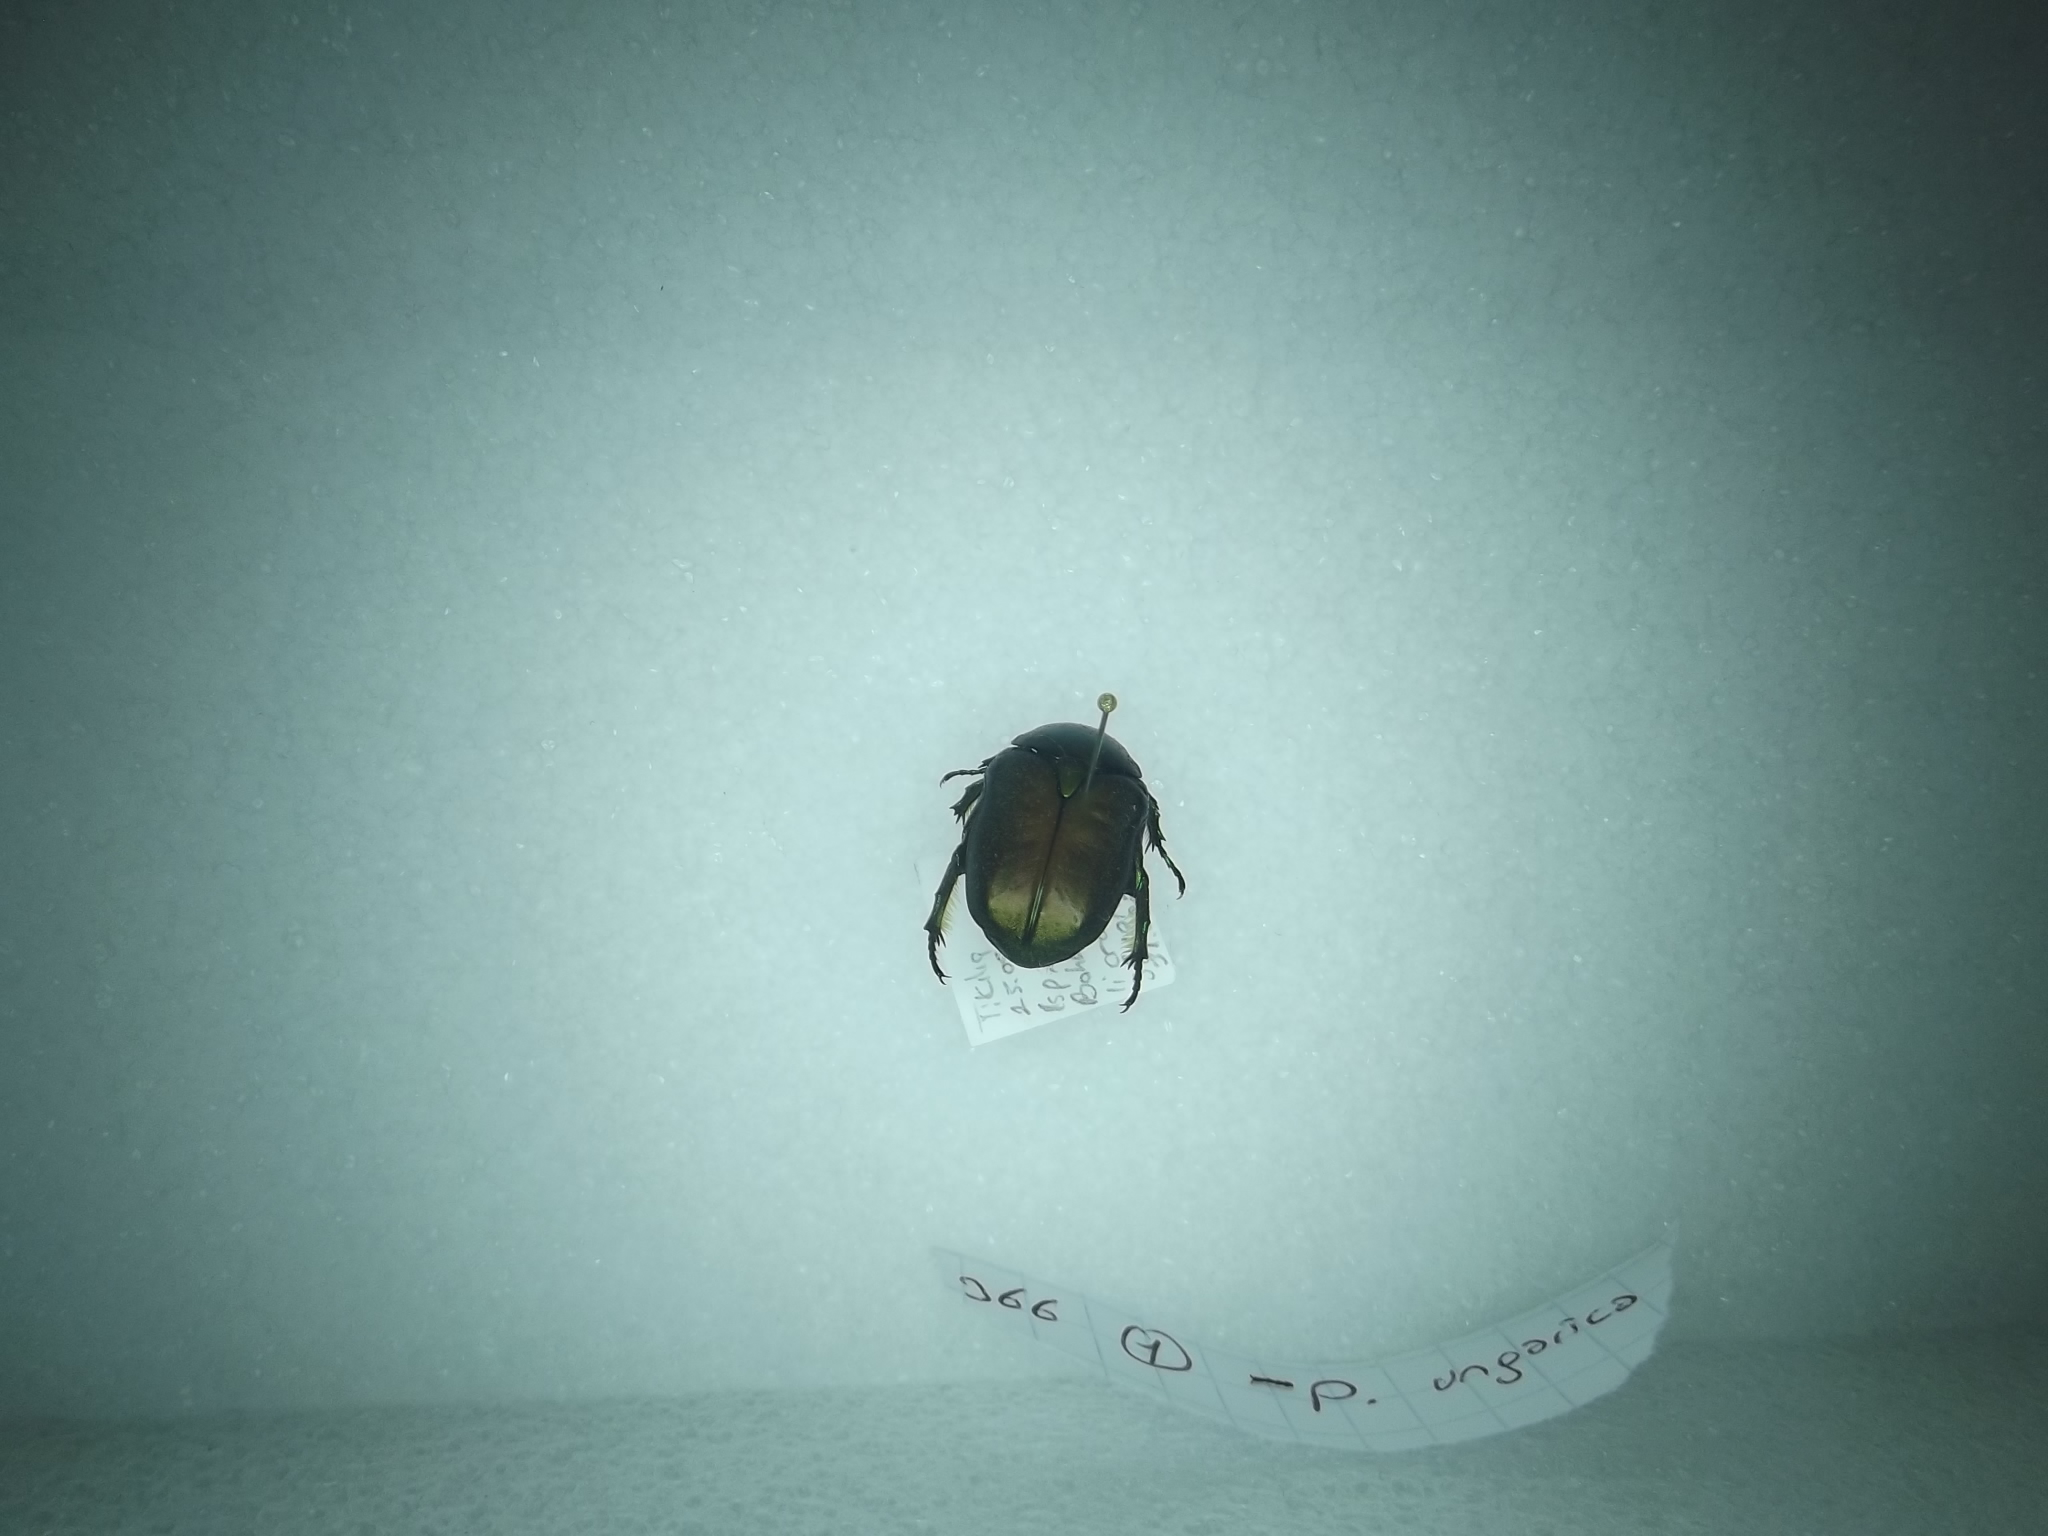Protaetia_ungarica_americana: (901, 707, 1205, 1016)
